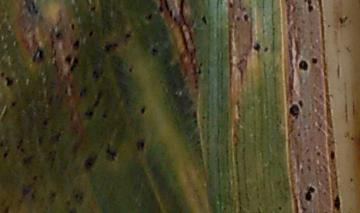tarspot: (103, 142, 119, 162), (81, 154, 99, 171), (30, 46, 46, 64), (21, 1, 40, 16), (48, 127, 64, 144), (91, 88, 104, 108), (45, 149, 58, 169), (303, 185, 316, 202), (288, 104, 301, 121), (101, 42, 118, 54), (68, 56, 80, 73), (89, 68, 103, 82), (333, 193, 343, 212), (302, 1, 316, 14), (22, 154, 36, 167), (72, 189, 85, 203), (134, 138, 146, 153), (20, 183, 31, 198), (46, 189, 57, 204), (35, 135, 46, 149), (82, 108, 94, 120), (122, 31, 133, 44), (298, 60, 309, 72), (70, 38, 81, 50), (200, 14, 209, 28), (149, 46, 160, 57), (4, 75, 14, 87), (138, 104, 147, 116), (64, 53, 73, 65), (15, 137, 24, 149), (196, 62, 204, 75), (309, 56, 319, 66), (251, 42, 261, 52), (78, 86, 87, 97), (53, 32, 65, 40), (2, 149, 10, 161), (157, 1, 164, 14), (143, 13, 153, 22), (1, 204, 11, 213), (329, 149, 336, 161), (69, 22, 76, 34), (86, 29, 95, 38), (88, 4, 97, 13), (297, 98, 305, 108), (261, 45, 269, 55), (99, 112, 109, 120), (67, 205, 77, 213), (242, 13, 249, 24), (41, 117, 49, 126), (337, 16, 343, 26), (127, 66, 134, 74), (31, 173, 37, 182), (227, 1, 234, 8), (235, 15, 242, 22), (30, 192, 36, 200), (19, 147, 25, 154), (1, 140, 5, 149), (277, 204, 282, 211), (1, 71, 5, 79), (10, 101, 15, 107)
